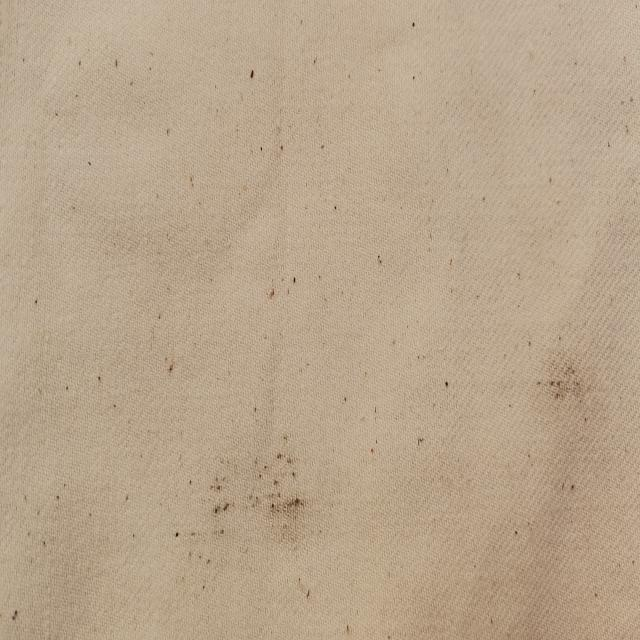taaaches: (185, 422, 319, 566), (531, 318, 593, 439)
